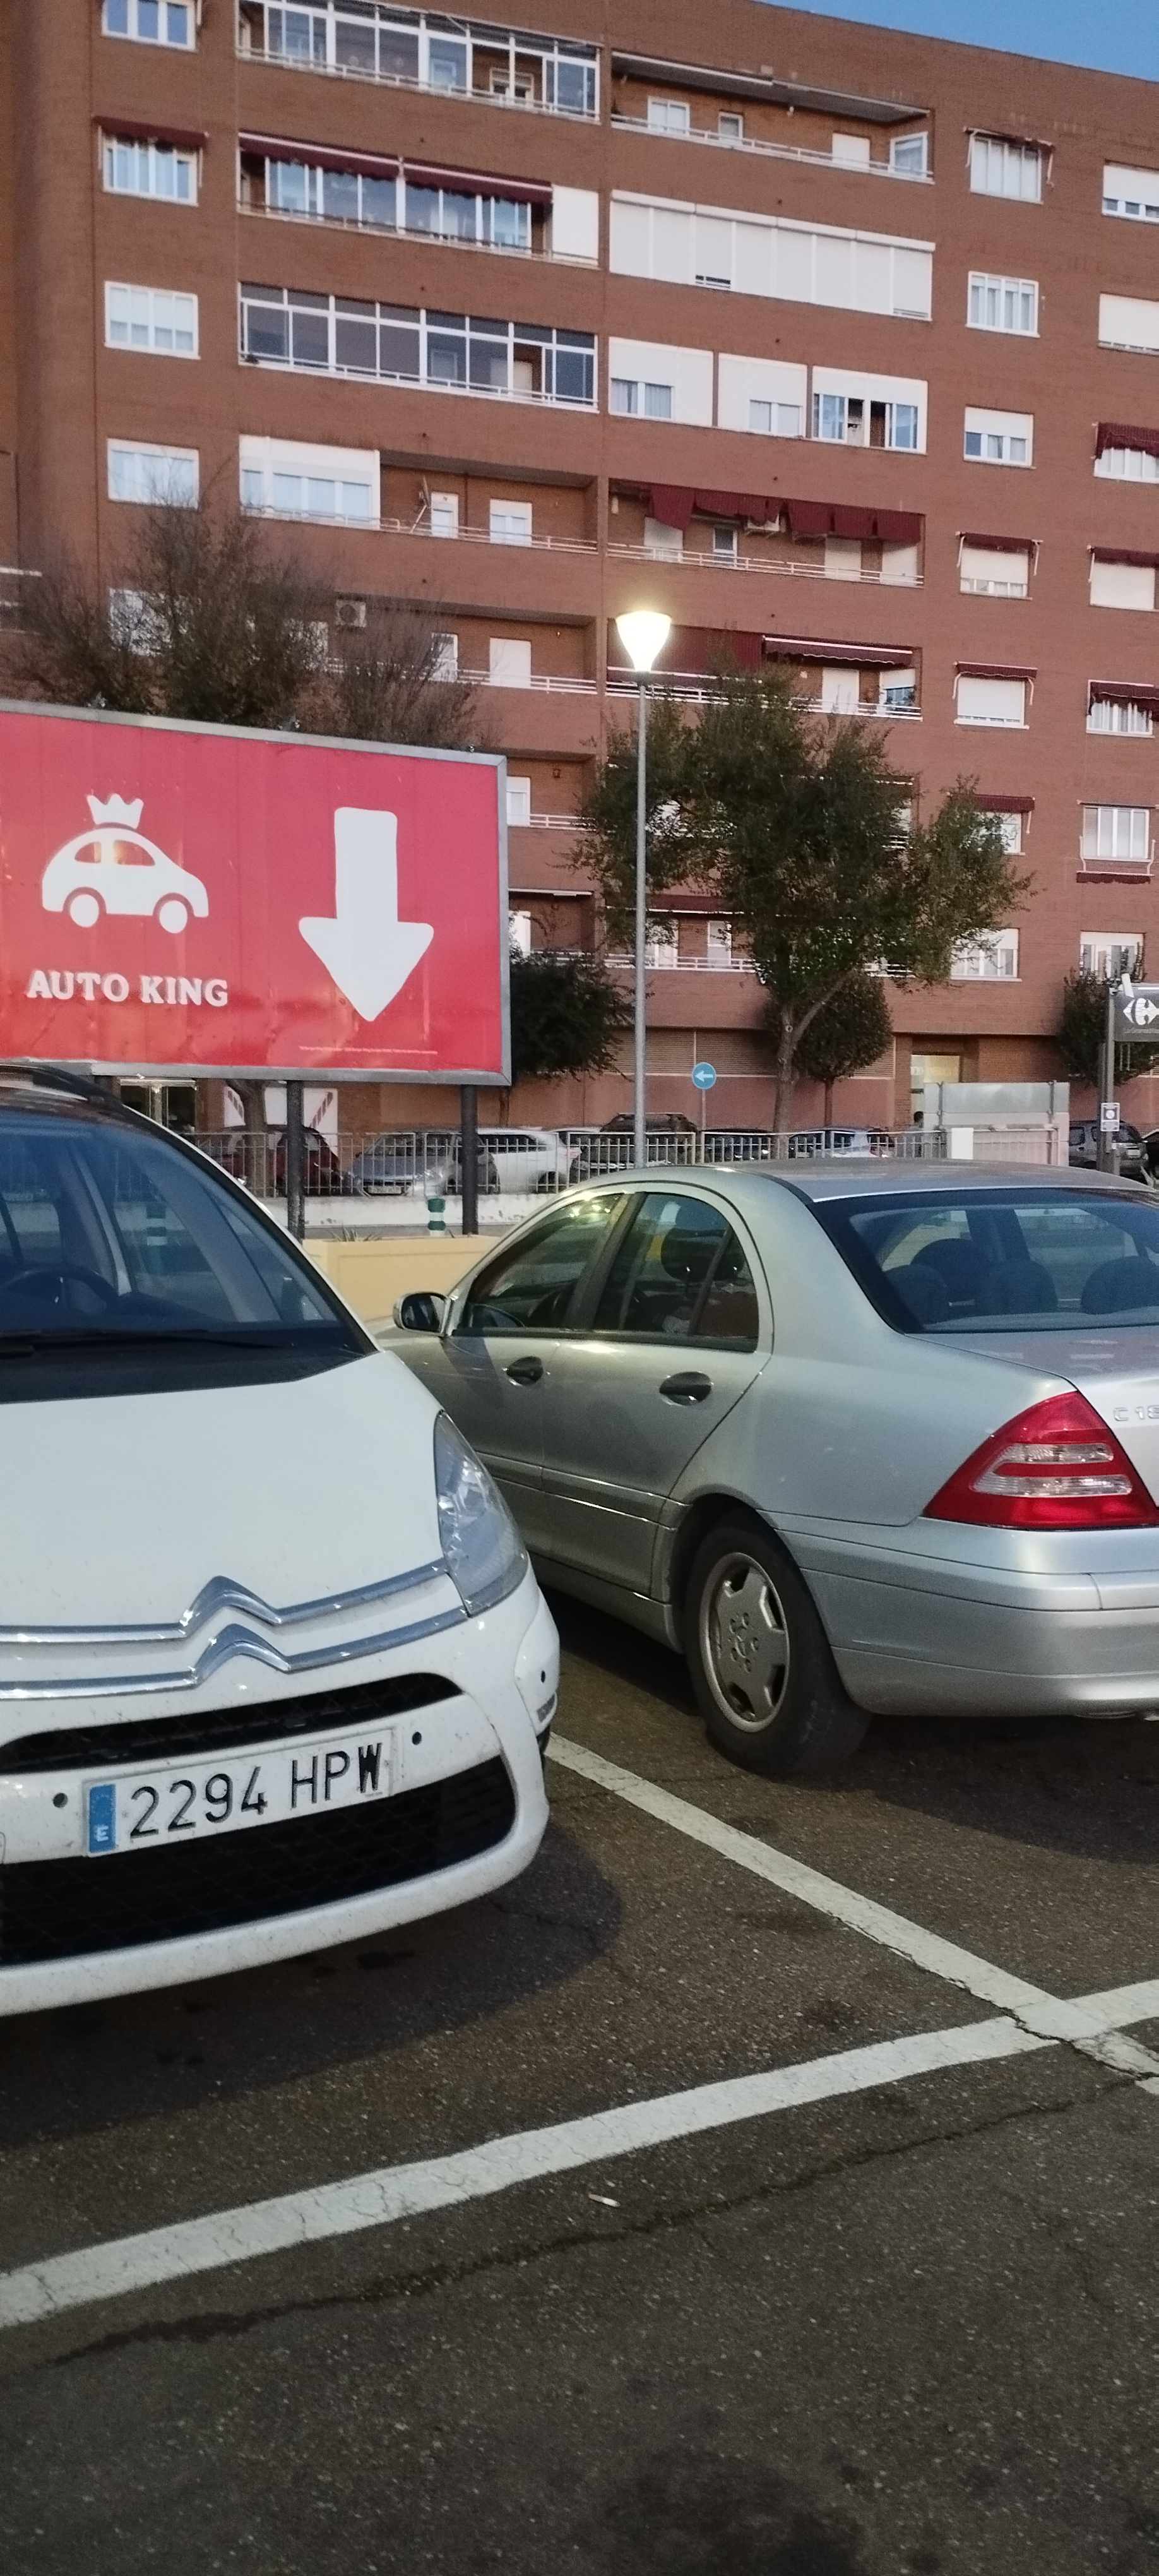Car: (0, 1059, 575, 2020)
Plate: (80, 1791, 404, 1852)
